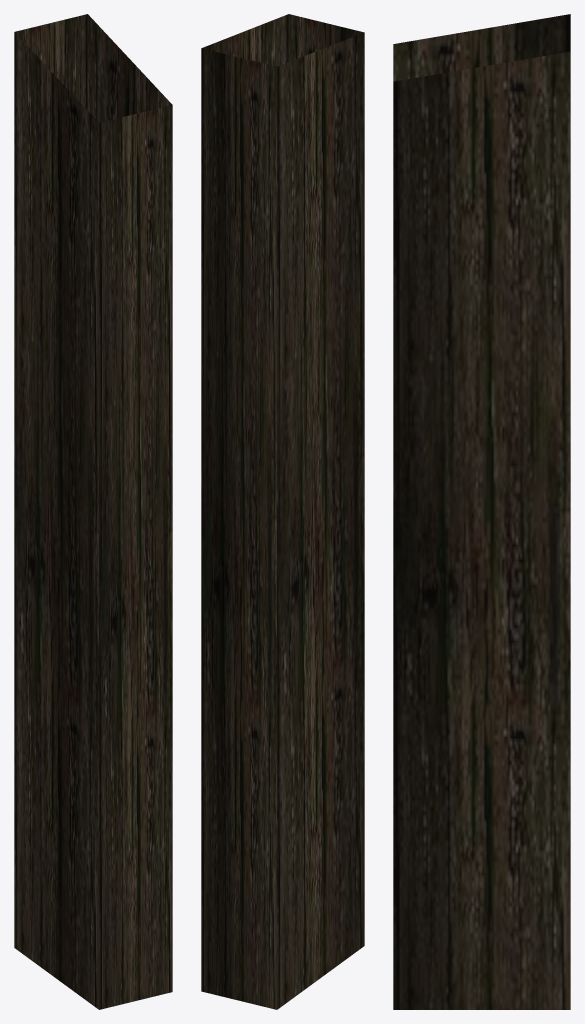
File: OC_STABLE_PLANKS.glb
3 renders of one model, left to right at view 1: azimuth 30°, elevation 25°; view 2: azimuth 150°, elevation 25°; view 3: azimuth 270°, elevation 25°, orthographic. The views are drawn at different scales.
Parts seen in each view (by area): view 1: Mesh; view 2: Mesh; view 3: Mesh.
Boxes of the visible parts, box(x1,y1,x2,y2) form: Mesh: box(14, 14, 172, 1009); Mesh: box(201, 14, 364, 1009); Mesh: box(393, 14, 570, 1009).
Size of the model in its own units: 0.4 by 4.76 by 0.8.
1 material, 1 textured.
